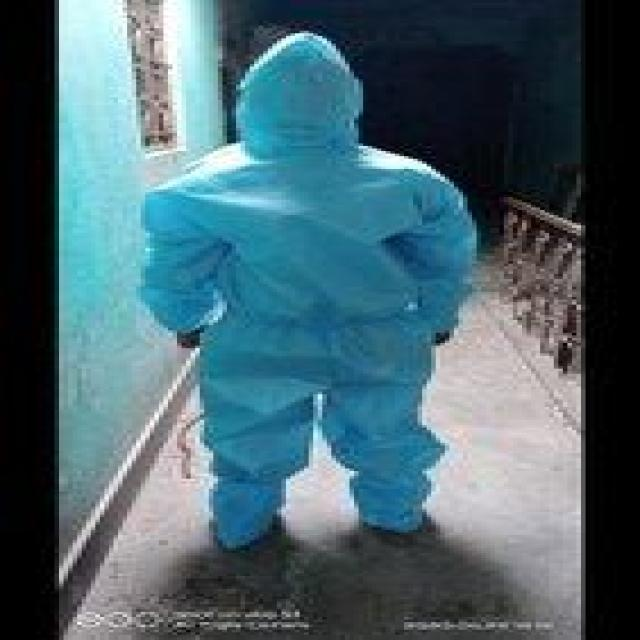Coverall: (136, 28, 486, 553)
